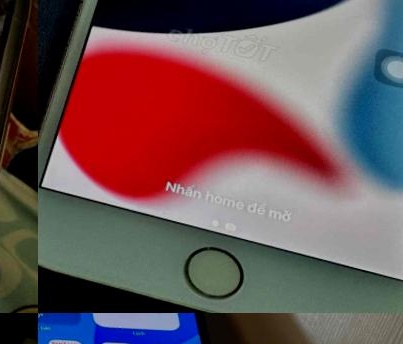physical_damage: (0, 0, 38, 57)
scratch: (38, 42, 68, 172), (63, 0, 121, 51)
